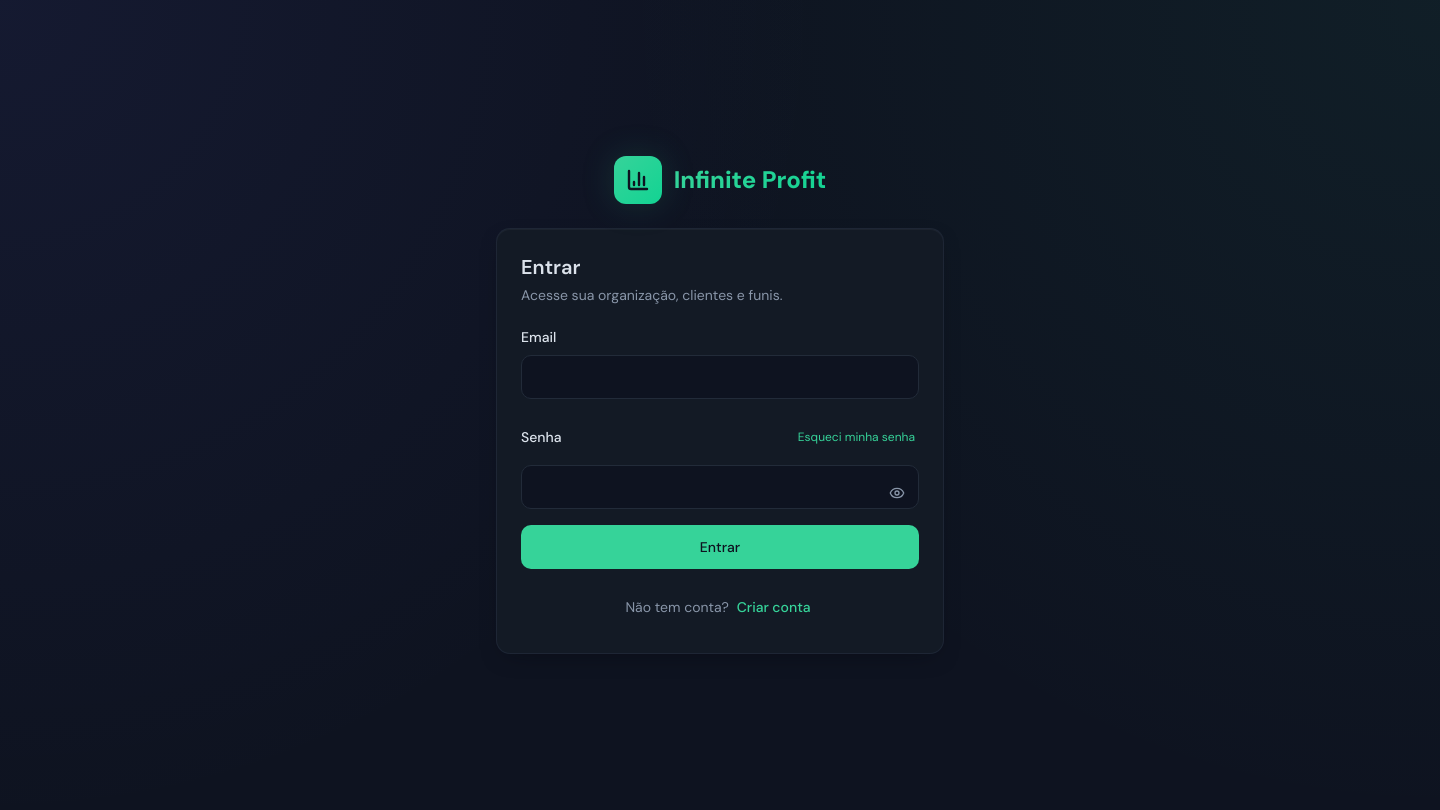
Test: Auth › keeps email confirmation as a persistent screen
Later steps or results of the test are not shown.
Click the button "Criar conta" at (774,607), box [733,585,815,629]
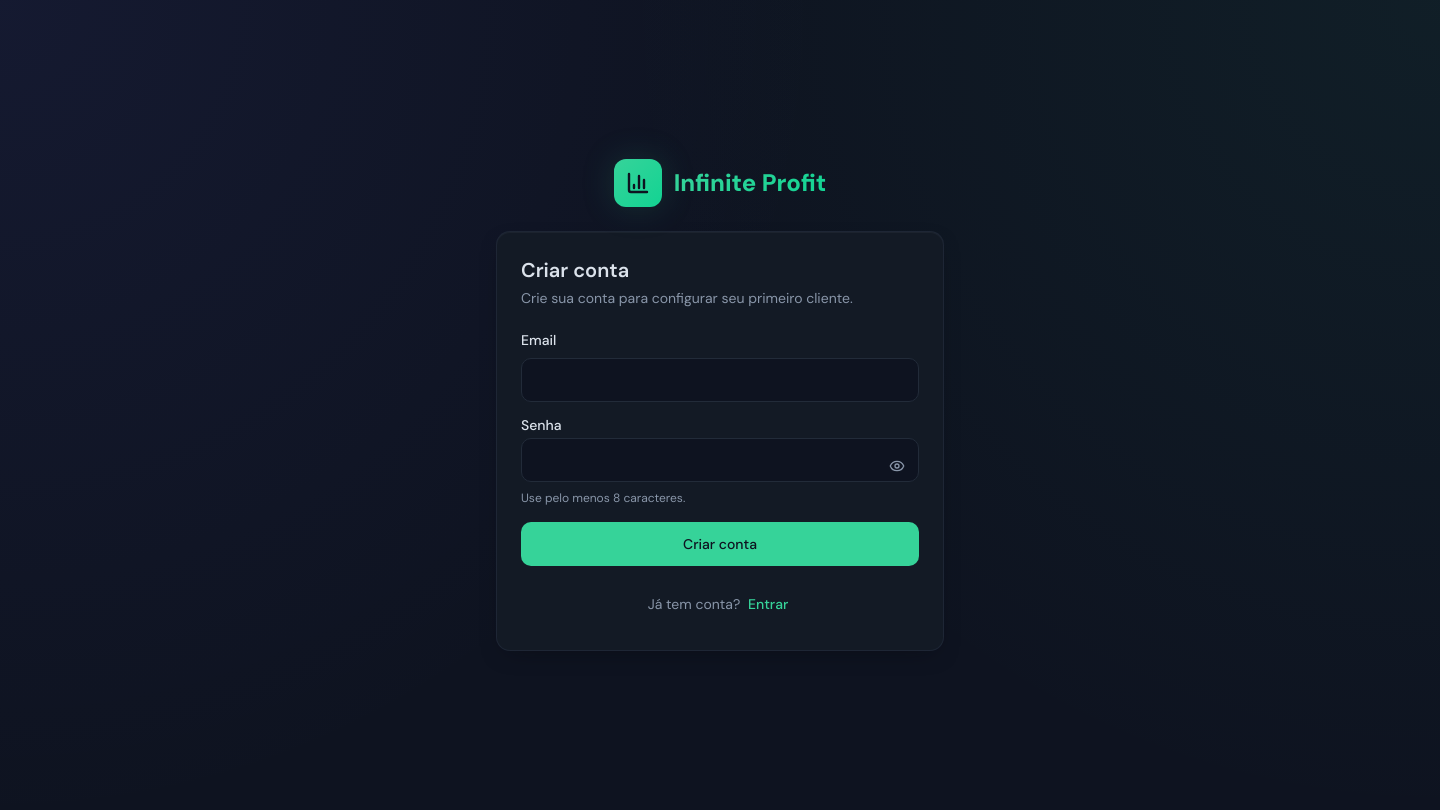
Type "owner@example.com" into the field labelled "Email" at (720,380), box [521,358,919,402]
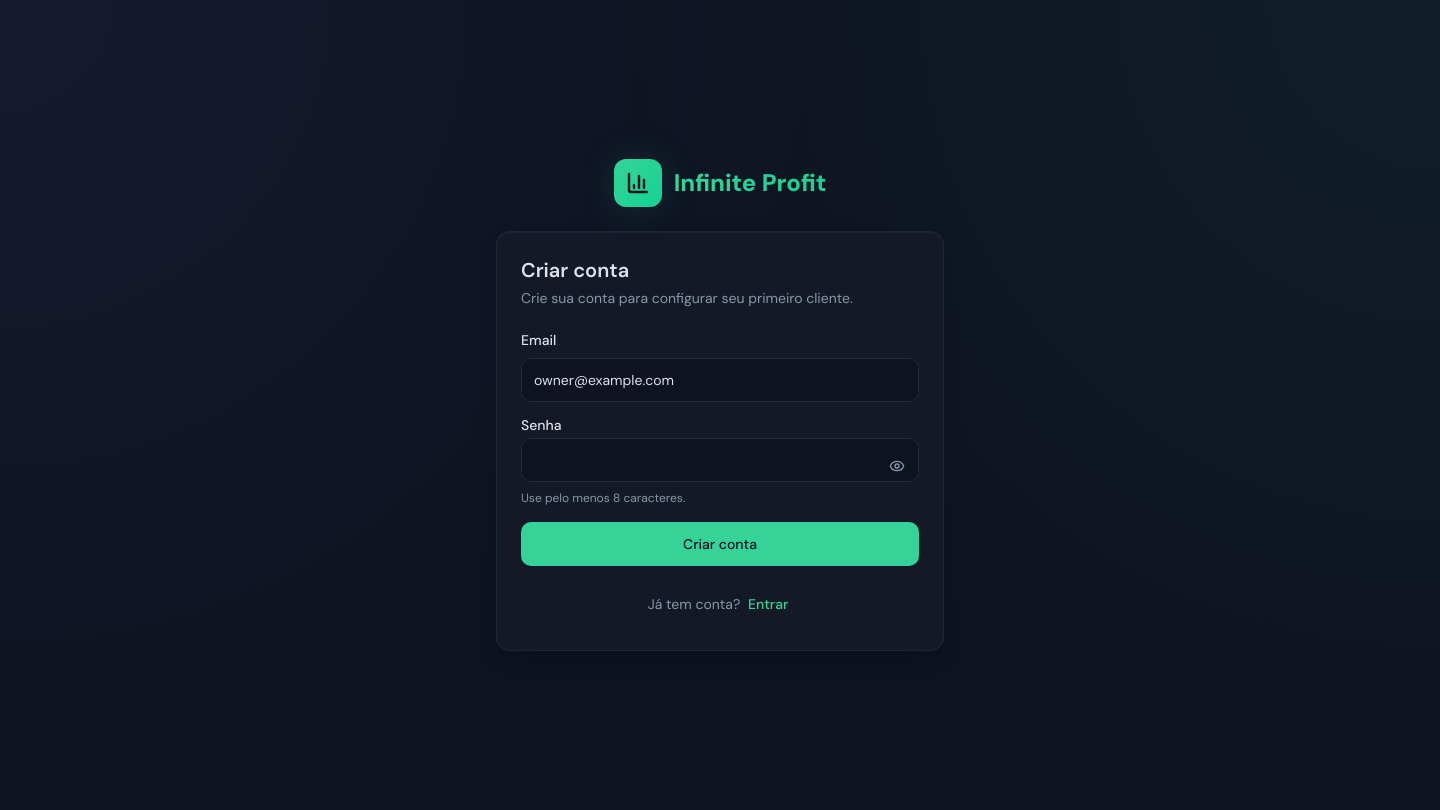
Type "password-123" into the password field labelled "Senha" at (720,460), box [521,438,919,482]
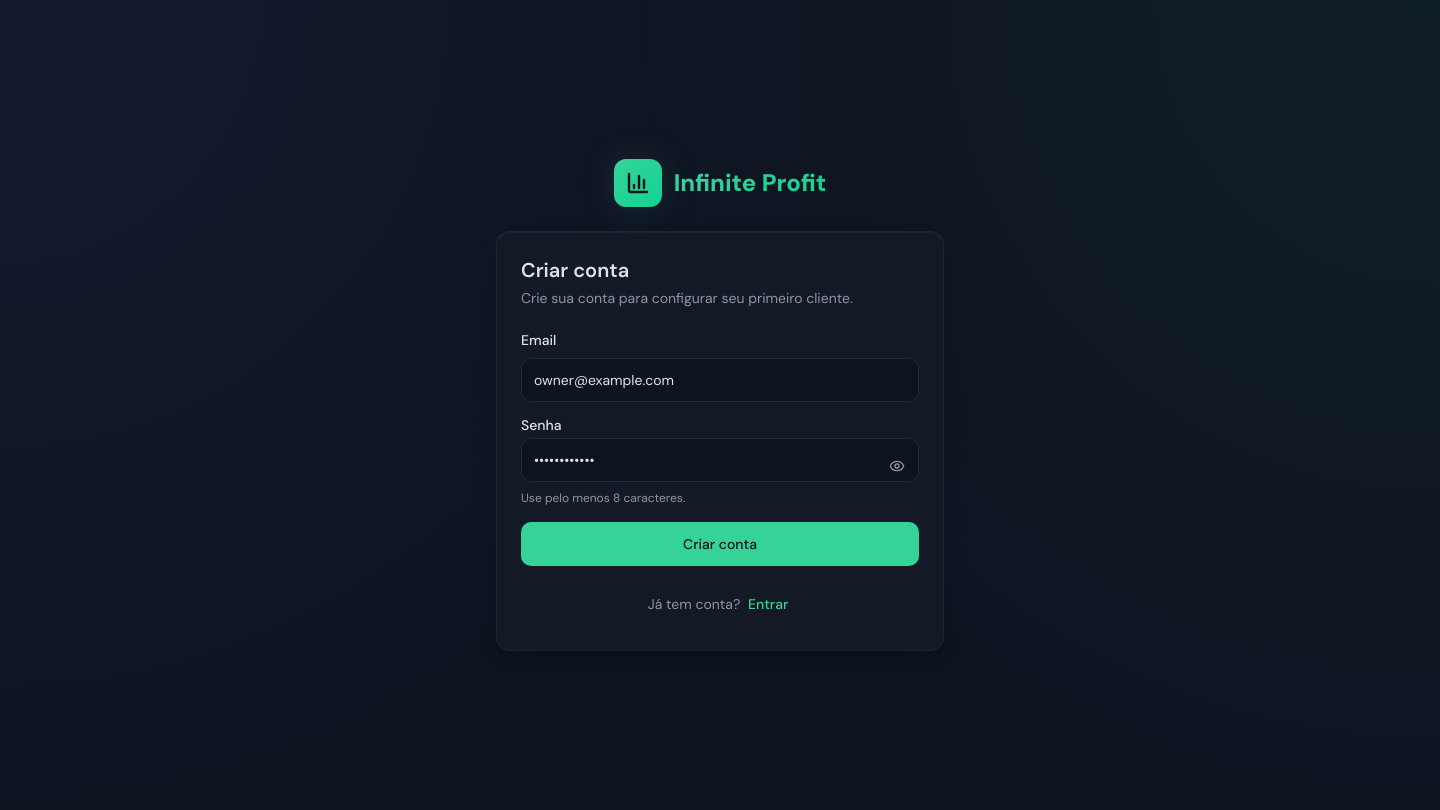
Click the button "Criar conta" at (720,544), box [521,522,919,566]
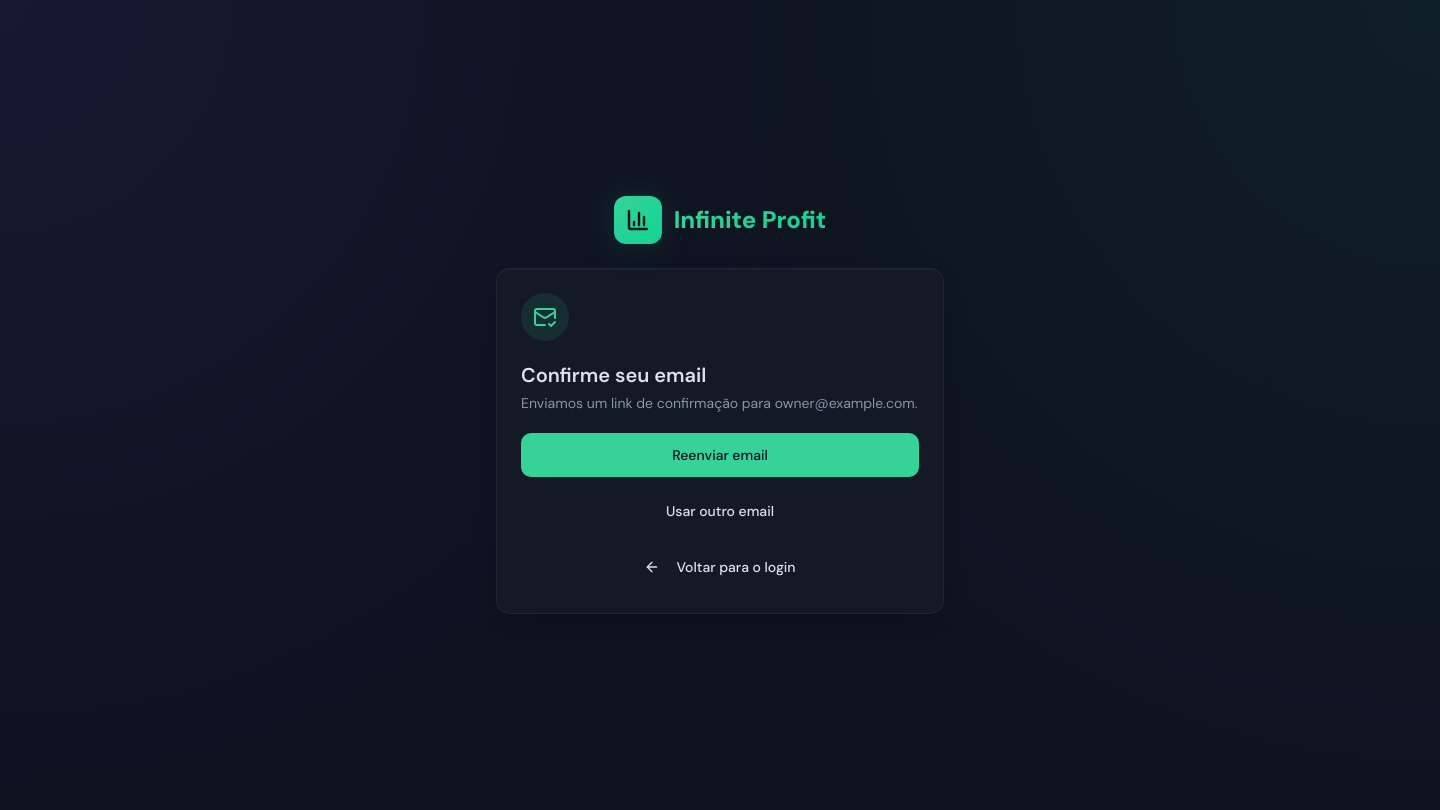
Check: the heading "Confirme seu email" is shown, box [521,362,706,388]
